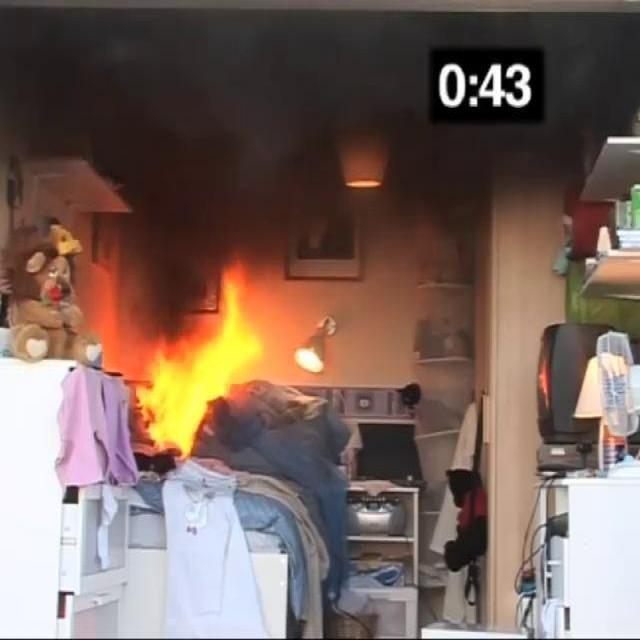Fire: (139, 246, 275, 464)
Smoke: (39, 11, 382, 232)
